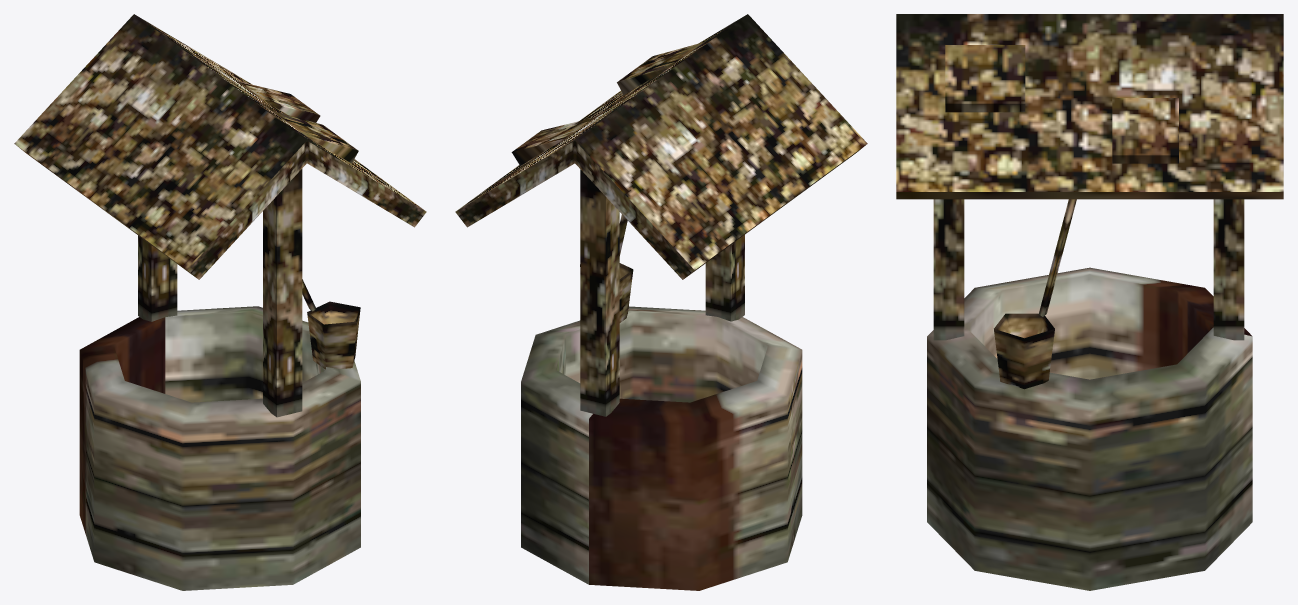
3 views of the same model, side by side, from view 1: azimuth 30°, elevation 25°; view 2: azimuth 150°, elevation 25°; view 3: azimuth 270°, elevation 25° (orthographic). The views are drawn at different scales.
Visible parts, largest first — view 1: Well02; view 2: Well02; view 3: Well02.
Boxes of the visible parts, <box> form: Well02: <box>14,14,426,590</box>; Well02: <box>455,14,867,590</box>; Well02: <box>896,14,1283,590</box>.
Size of the model in its own units: 157 by 271 by 187.
